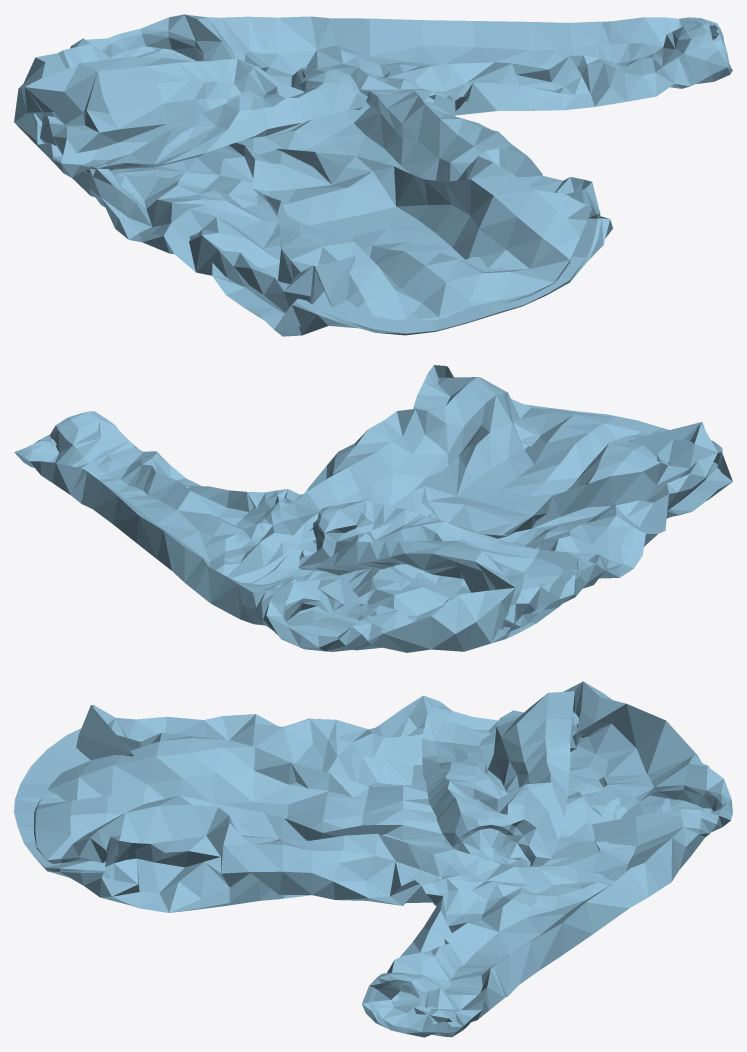
Rendered from frame_00.glb.
3 renders of one model, top to bottom at view 1: azimuth 30°, elevation 25°; view 2: azimuth 150°, elevation 25°; view 3: azimuth 270°, elevation 25°, orthographic. The views are drawn at different scales.
Parts seen in each view (by area): view 1: frame_00.obj; view 2: frame_00.obj; view 3: frame_00.obj.
Part boxes in pixels (<box>): frame_00.obj: <box>14,14,732,336</box>; frame_00.obj: <box>14,365,732,652</box>; frame_00.obj: <box>14,681,732,1037</box>.
Size of the model in its own units: 1.62 by 0.2491 by 1.6.
